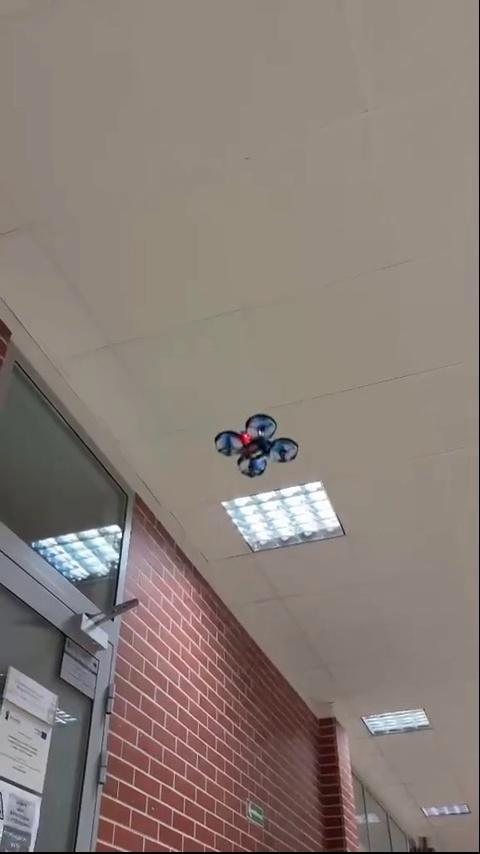drone: (216, 415, 297, 476)
